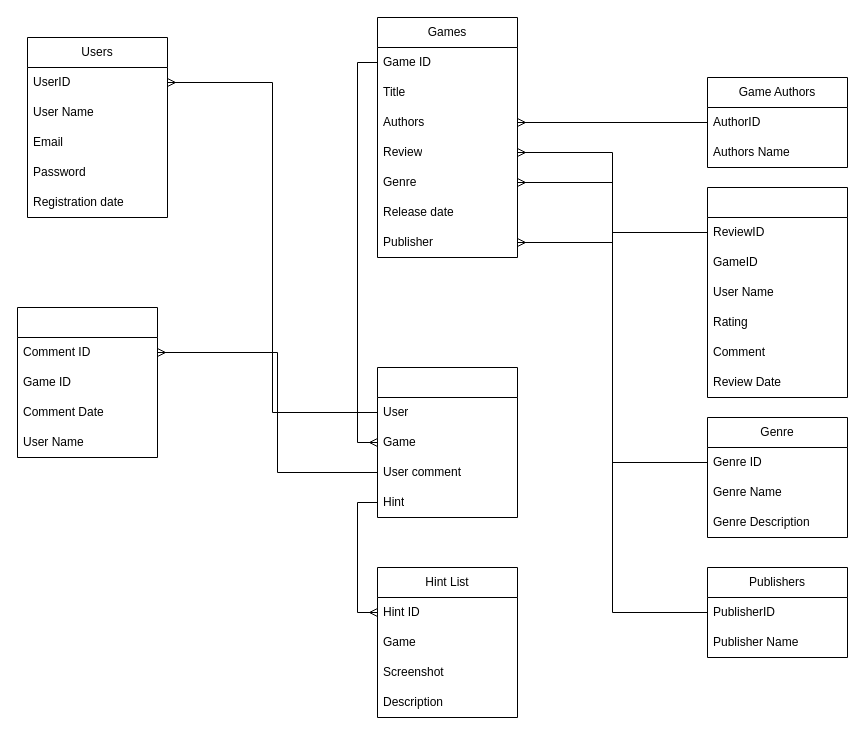
Image size: 865x735. Some labels were removed from this diagram. Each missing label, with the box of its shape:
Reviews: (706, 186, 848, 398)
User Comments: (16, 306, 158, 458)
User Game List: (376, 366, 518, 518)
